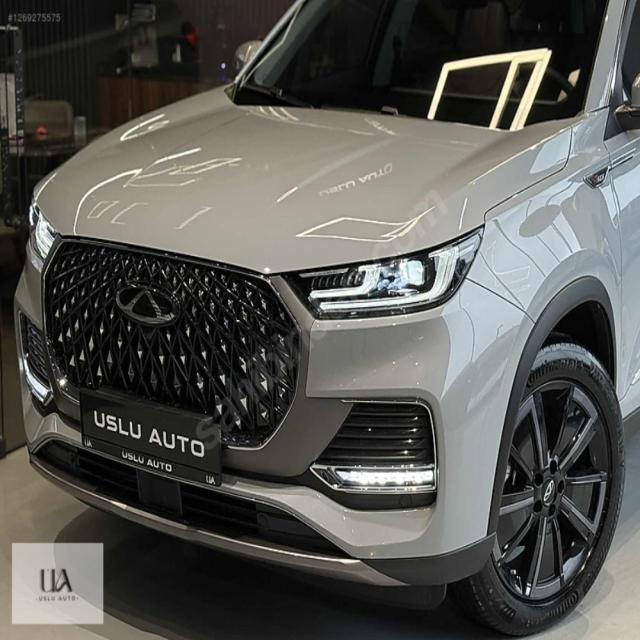cherry: (114, 280, 181, 332)
